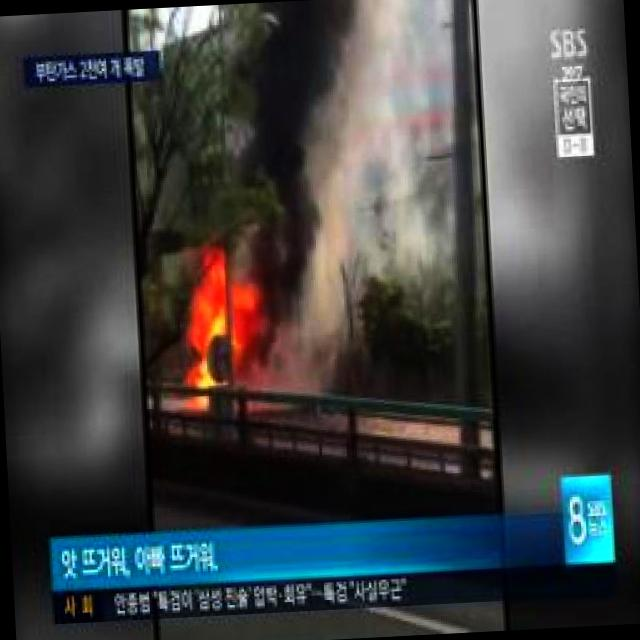fire: (174, 251, 266, 414)
